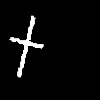single_crochet: (10, 16, 42, 76)
